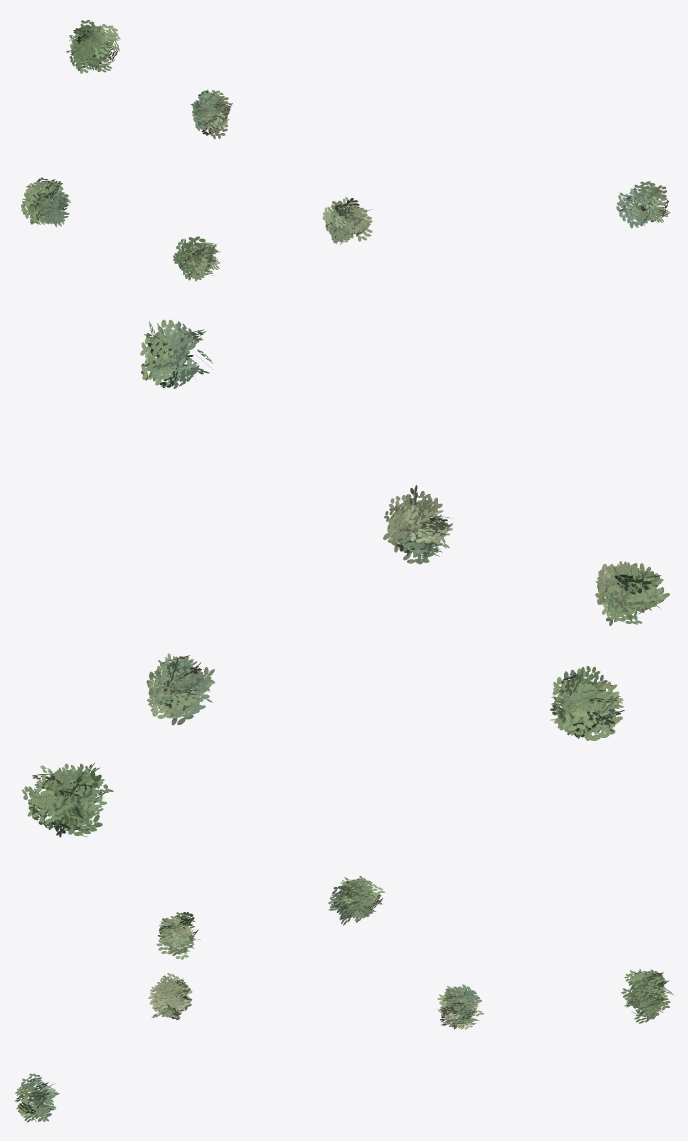
File: campus-tree--5_-2-far.glb
3 views of the same model, one above another, from view 1: azimuth 30°, elevation 25°; view 2: azimuth 150°, elevation 25°; view 3: azimuth 270°, elevation 25° (orthographic). The views are drawn at different scales.
Visible parts, largest first — view 1: Campus leaf canopy; view 2: Campus leaf canopy; view 3: Campus leaf canopy.
Part boxes in pixels (x1,y1,x2,y2): Campus leaf canopy: (21, 20, 670, 281); Campus leaf canopy: (22, 319, 669, 837); Campus leaf canopy: (14, 876, 673, 1122).
Size of the model in its own units: 55.83 by 7.03 by 66.95.
Materials: 1 (1 with a texture image).
